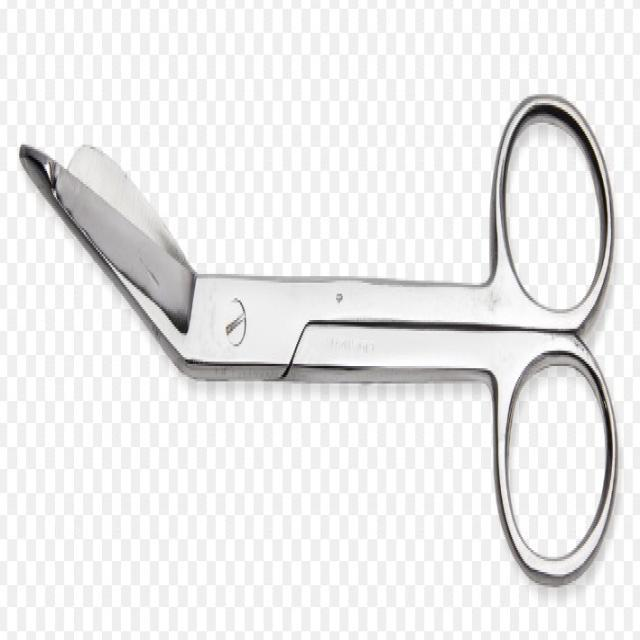Bandage Sciccors: (11, 70, 620, 589)
